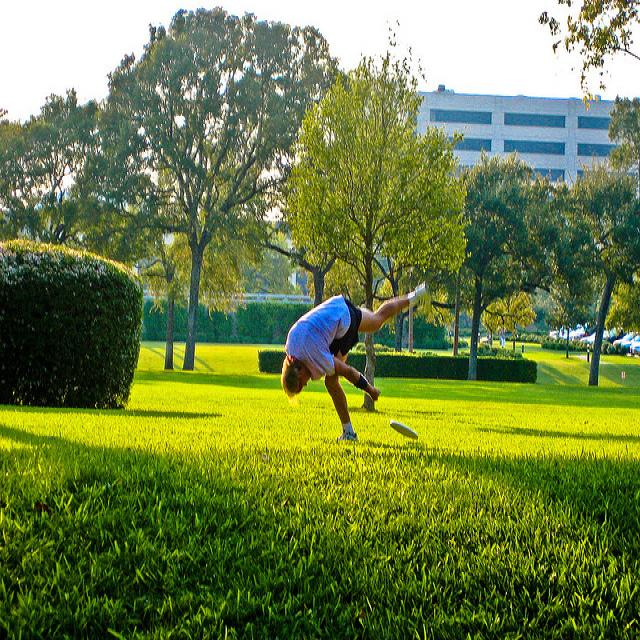Vehicle: (578, 329, 624, 344), (613, 332, 638, 352), (628, 334, 640, 357), (569, 326, 584, 340)
